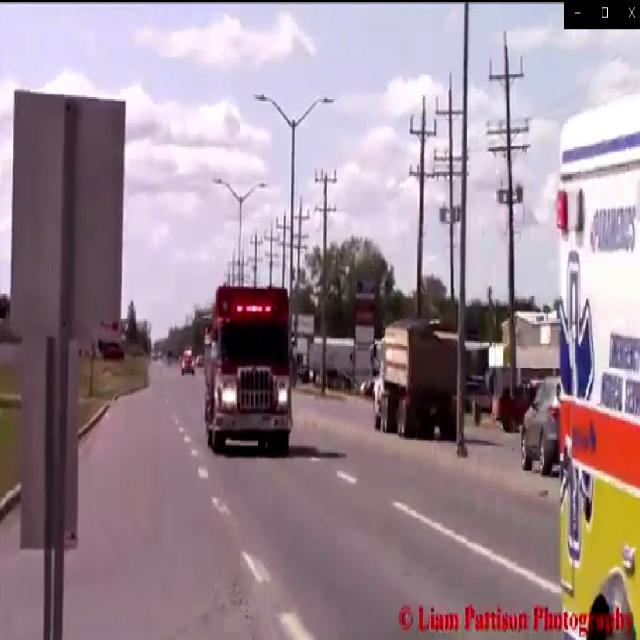emergency: (551, 102, 640, 640), (198, 282, 292, 456), (180, 343, 196, 377)
